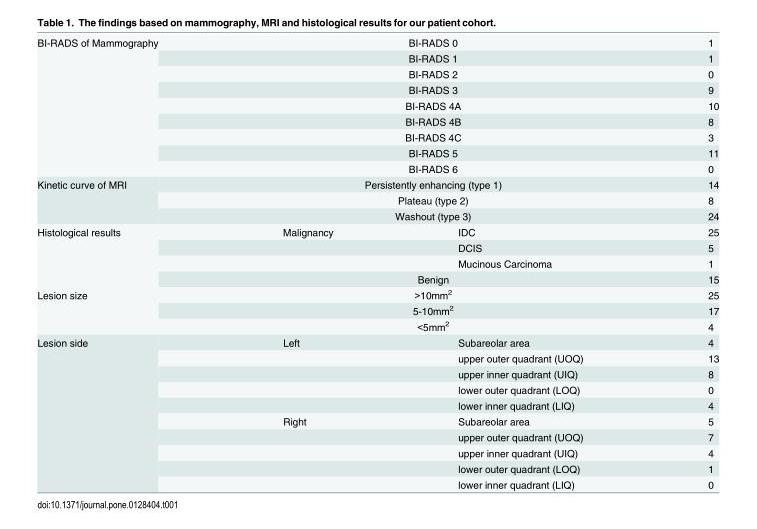table: (36, 36, 718, 489)
table column: (394, 36, 644, 489), (36, 36, 219, 489), (219, 36, 394, 489), (644, 36, 718, 489)
table row: (36, 317, 718, 334), (36, 65, 718, 81), (36, 81, 718, 97), (36, 97, 718, 113), (36, 128, 718, 144), (36, 144, 718, 160), (36, 160, 718, 176), (36, 176, 718, 192), (36, 207, 718, 223), (36, 223, 718, 239), (36, 239, 718, 255), (36, 255, 718, 271), (36, 301, 718, 317), (36, 349, 718, 365), (36, 365, 718, 381), (36, 381, 718, 397), (36, 397, 718, 413), (36, 428, 718, 444), (36, 444, 718, 460), (36, 460, 718, 476), (36, 50, 718, 65), (36, 113, 718, 128), (36, 192, 718, 207), (36, 271, 718, 286), (36, 286, 718, 301), (36, 334, 718, 349), (36, 413, 718, 428), (36, 36, 718, 50), (36, 476, 718, 489)
table spanning cell: (36, 334, 219, 489), (36, 36, 219, 176), (36, 223, 219, 286), (36, 286, 219, 334), (36, 176, 219, 223), (219, 317, 644, 334), (219, 65, 644, 81), (219, 81, 644, 97), (219, 97, 644, 113), (219, 128, 644, 144), (219, 144, 644, 160), (219, 160, 644, 176), (219, 176, 644, 192), (219, 207, 644, 223), (219, 301, 644, 317), (219, 50, 644, 65), (219, 113, 644, 128), (219, 192, 644, 207), (219, 271, 644, 286), (219, 286, 644, 301), (219, 36, 644, 50)
